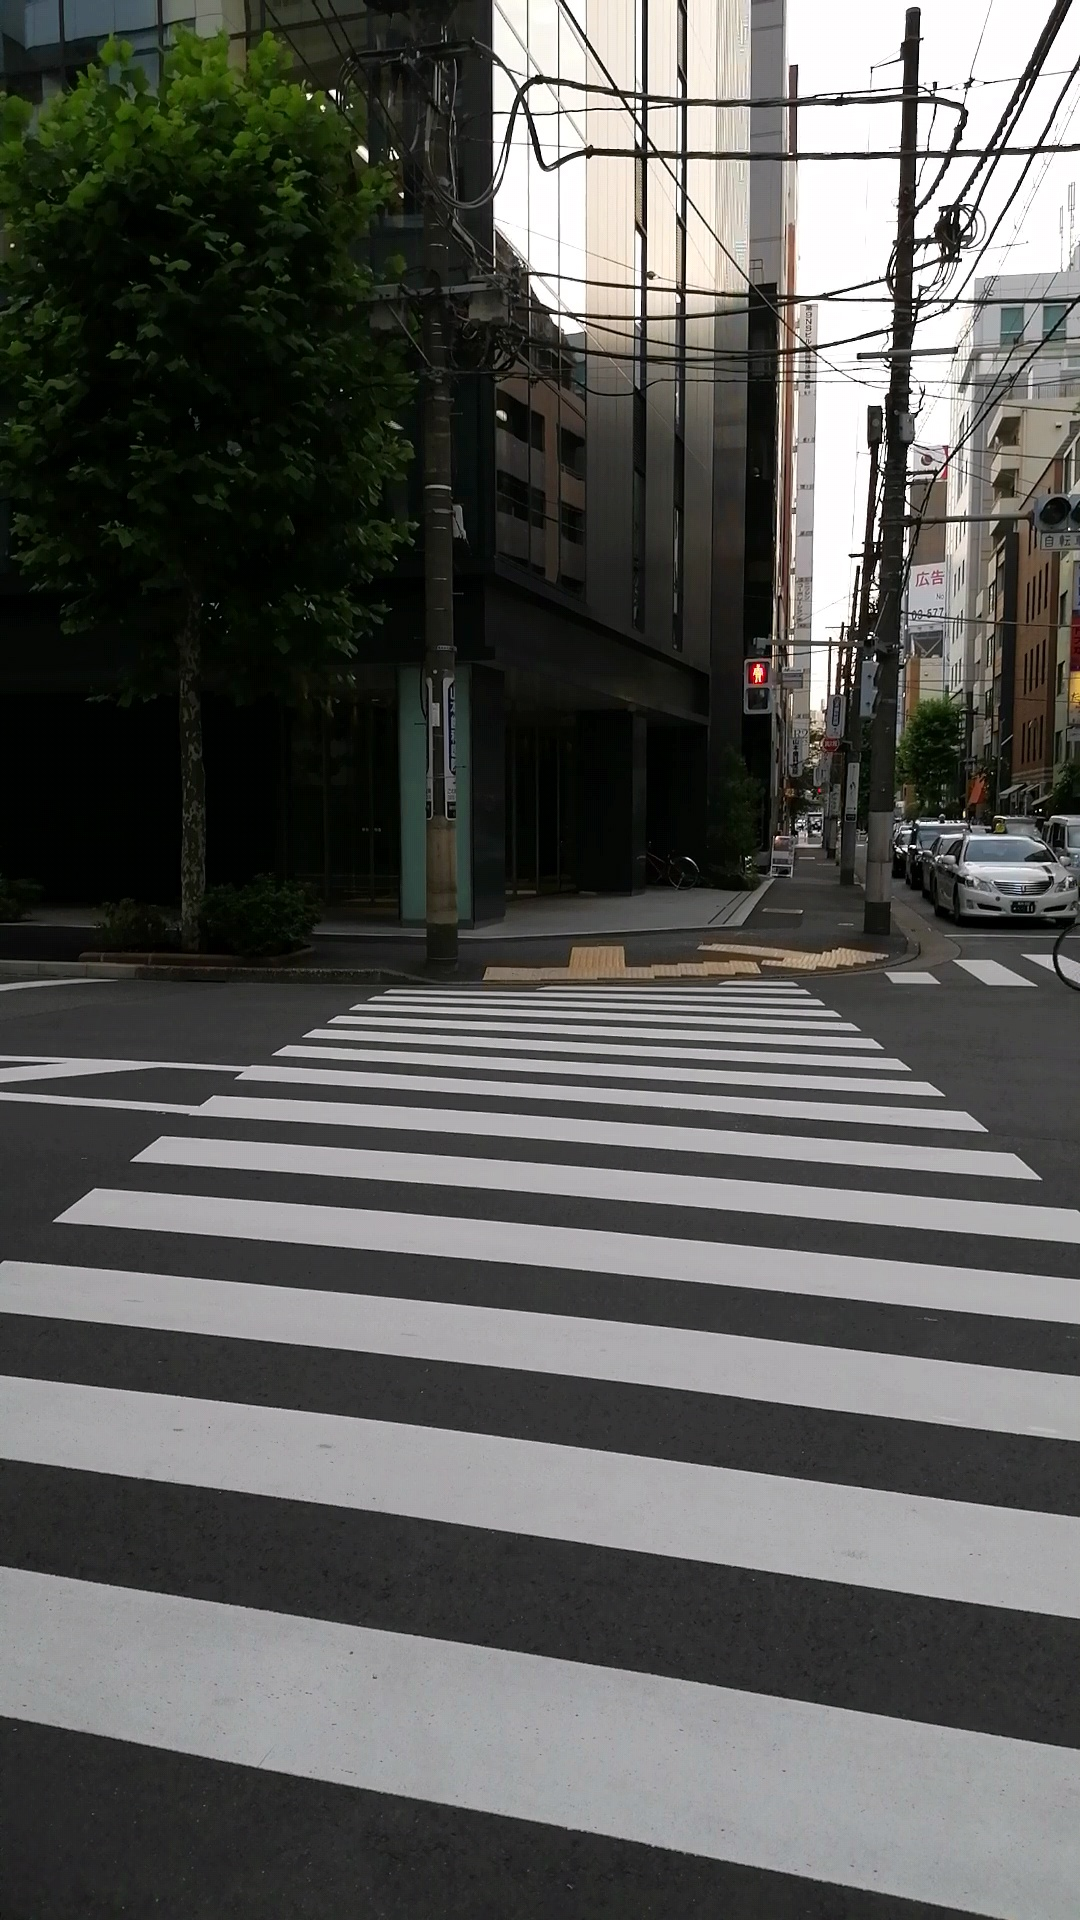red: (740, 657, 775, 715)
